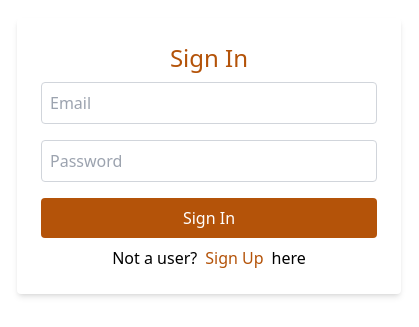
it: SignIn Page › displays an error message on failed login
In the field with placeholder "Email": (209, 103) [41, 82, 377, 124], type "test@example.com"
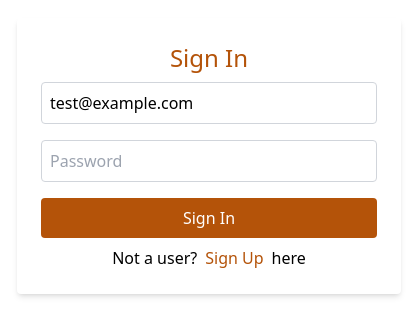
In the password field with placeholder "Password": (209, 161) [41, 140, 377, 182], type "password123"
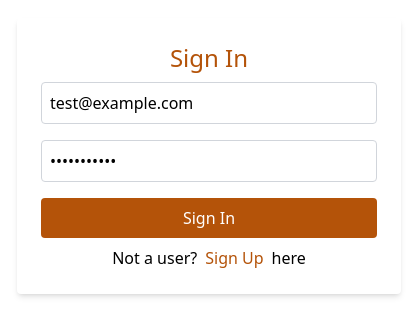
Click the button "Sign In": (209, 218) [41, 198, 377, 238]
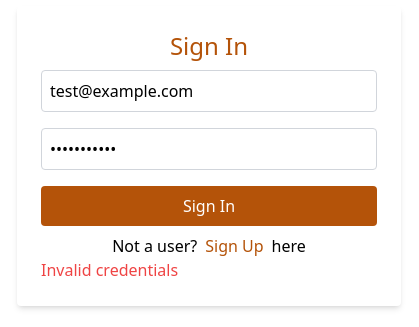
Check: the text "Invalid credentials" is shown, box [41, 259, 178, 281]
